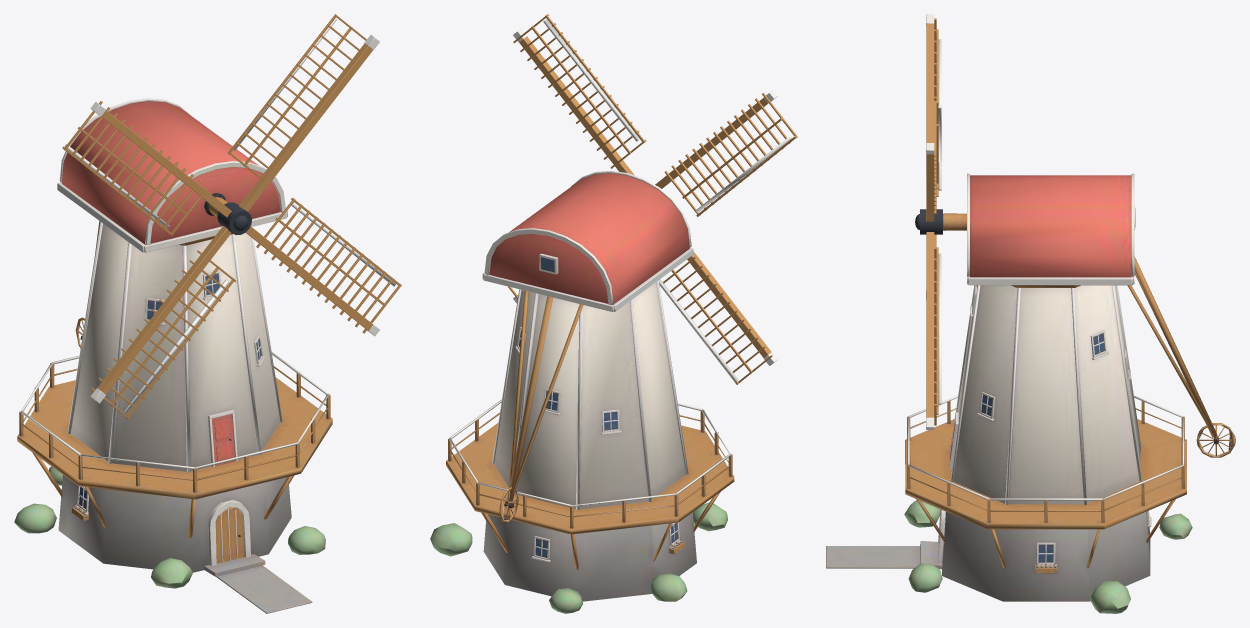
File: windmill.glb
3 views of the same model, side by side, from view 1: azimuth 30°, elevation 25°; view 2: azimuth 150°, elevation 25°; view 3: azimuth 270°, elevation 25° (orthographic). The views are drawn at different scales.
Visible parts, largest first — view 1: windmill_body, windmill_sails; view 2: windmill_body, windmill_sails; view 3: windmill_body, windmill_sails.
Part boxes in pixels (box(x1,y1,x2,y2)): windmill_body: box(14, 98, 332, 613); windmill_sails: box(62, 14, 401, 419); windmill_body: box(430, 170, 734, 613); windmill_sails: box(508, 14, 797, 384); windmill_body: box(826, 173, 1235, 613); windmill_sails: box(915, 14, 942, 429).
Bounding box in the file's own units: 16.16 × 24.08 × 17.7.
4 materials, 1 textured.
